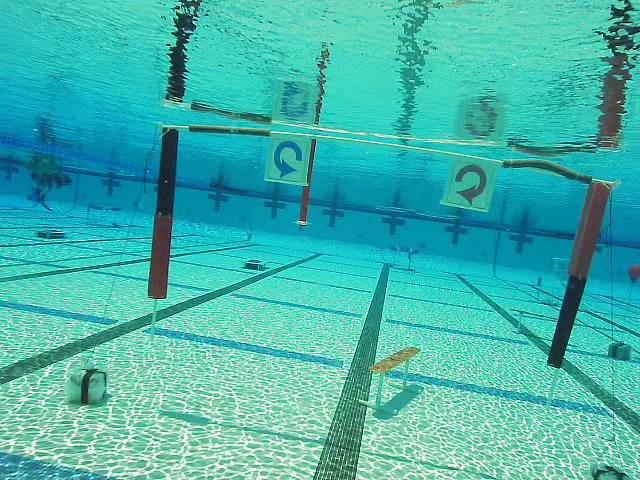gate: (148, 124, 616, 370)
gate_blue: (267, 134, 311, 184)
gate_leg_l: (148, 124, 181, 299)
gate_leg_r: (547, 178, 615, 369)
gate_red: (446, 160, 496, 211)
table: (386, 244, 419, 271)
